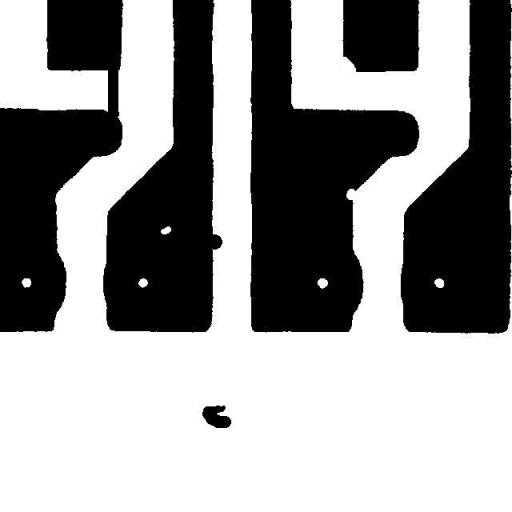copper: (194, 398, 238, 435)
mousebite: (331, 48, 363, 82), (338, 181, 364, 207)
pin-hole: (153, 218, 178, 242)
short: (100, 48, 126, 126)
spur: (199, 226, 230, 257)
